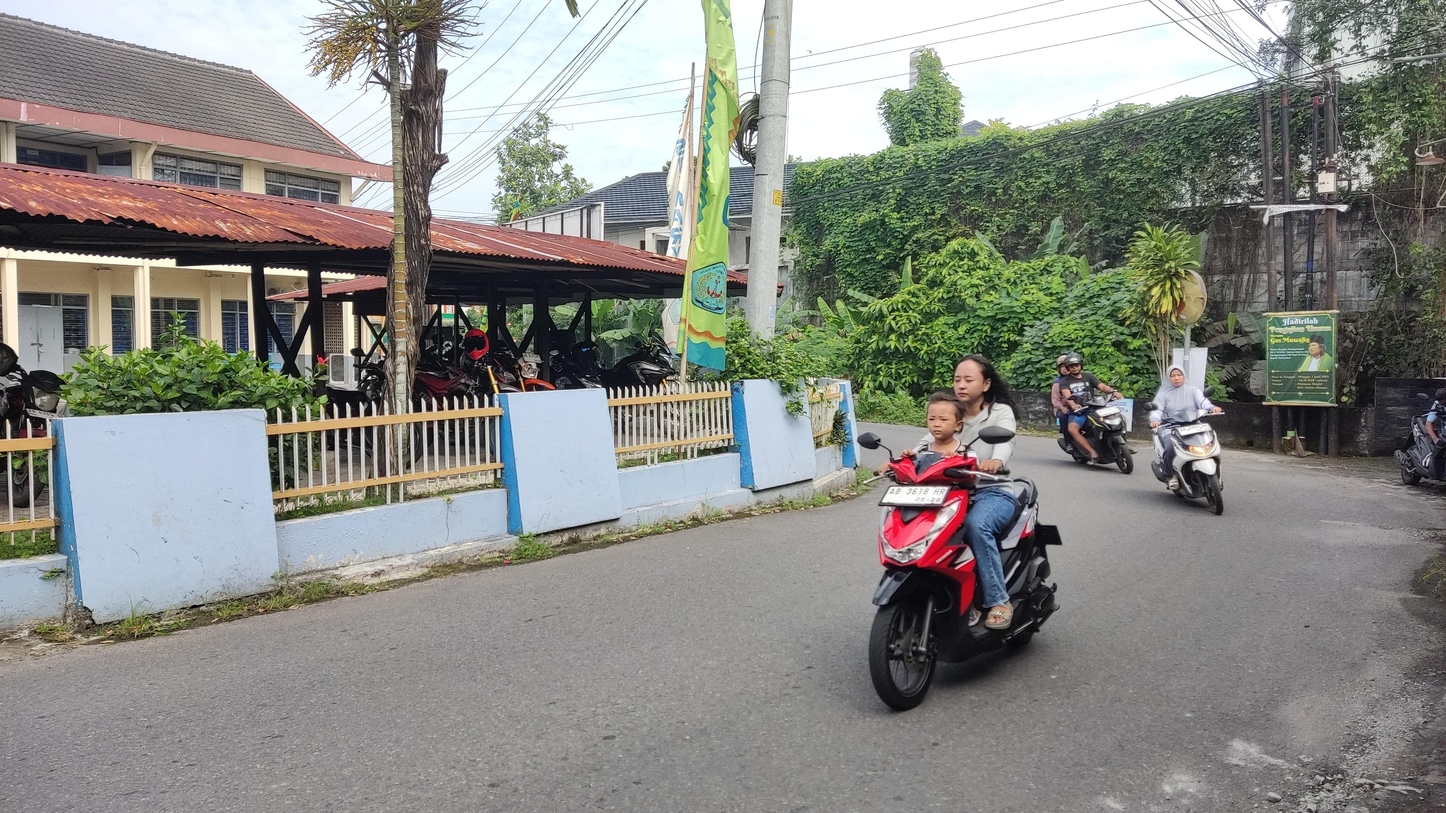nohelm: (951, 348, 1001, 412), (922, 388, 960, 444)
riding: (841, 342, 1076, 713)
